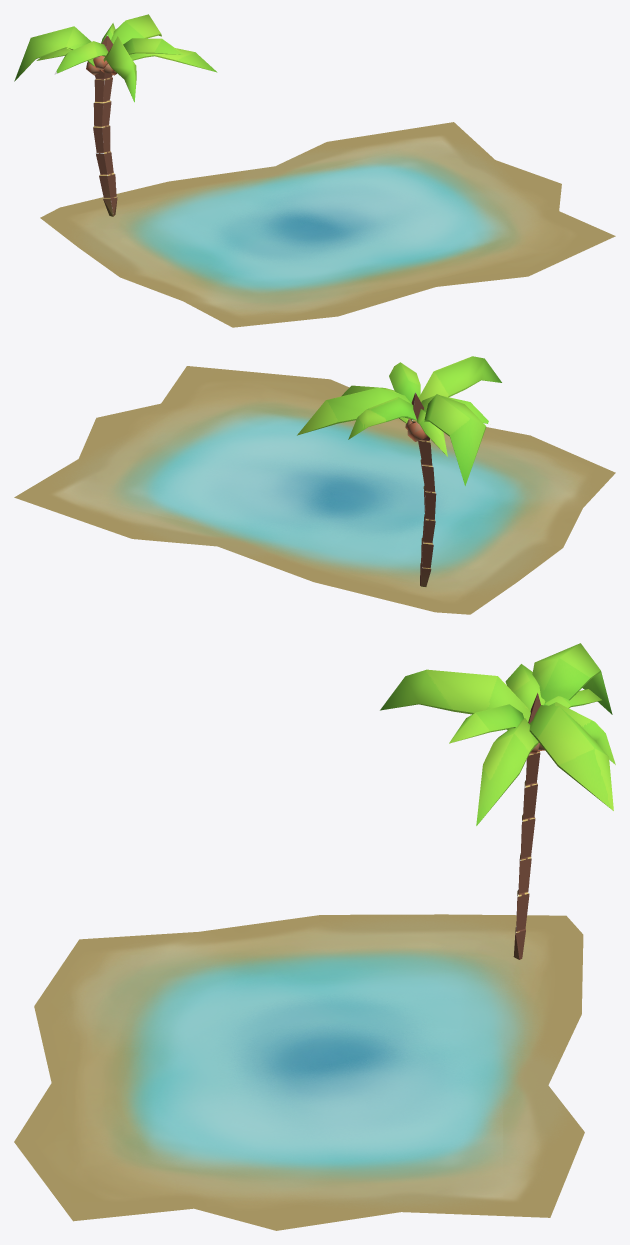
Rendered from Oasis.FBX.
The picture shows the model from 3 angles, top to bottom: view 1: azimuth 30°, elevation 25°; view 2: azimuth 150°, elevation 25°; view 3: azimuth 270°, elevation 25°; orthographic projection. The views are drawn at different scales.
Visible parts, largest first — view 1: Box001; view 2: Box001; view 3: Box001.
Part boxes in pixels (left/top/right/bottom): Box001: left=14, top=14, right=615, bottom=327; Box001: left=14, top=356, right=615, bottom=614; Box001: left=14, top=643, right=615, bottom=1230.
Size of the model in its own units: 97.26 by 76.57 by 39.46.
